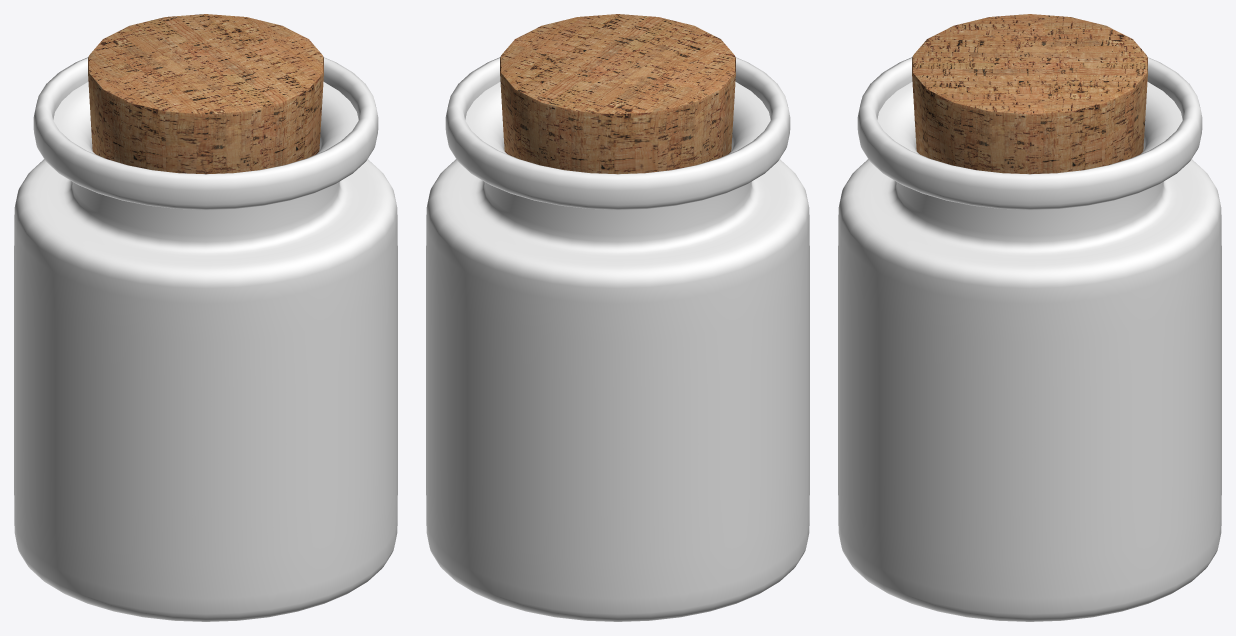
File: jar crystals.fbx
3 views of the same model, side by side, from view 1: azimuth 30°, elevation 25°; view 2: azimuth 150°, elevation 25°; view 3: azimuth 270°, elevation 25° (orthographic).
Parts seen in each view (by area): view 1: jar, cork stopper; view 2: jar, cork stopper; view 3: jar, cork stopper.
Boxes of the visible parts, left/top/right/bottom form: jar: left=14, top=57, right=397, bottom=621; cork stopper: left=88, top=14, right=323, bottom=174; jar: left=426, top=57, right=809, bottom=621; cork stopper: left=500, top=14, right=735, bottom=174; jar: left=838, top=57, right=1221, bottom=621; cork stopper: left=912, top=14, right=1147, bottom=174.
Size of the model in its own units: 9.85 by 13.69 by 9.85.
3 materials, 1 textured.
